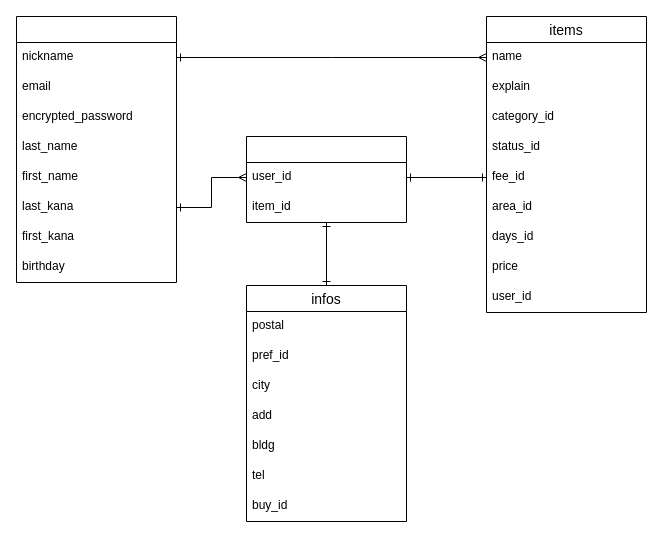
This 663x538 diagram has some shape labels left out. Here are the shapes that lost their labels. From the top down, the box of each, then its label:
(16, 16, 176, 282): users
(246, 136, 406, 222): buys
